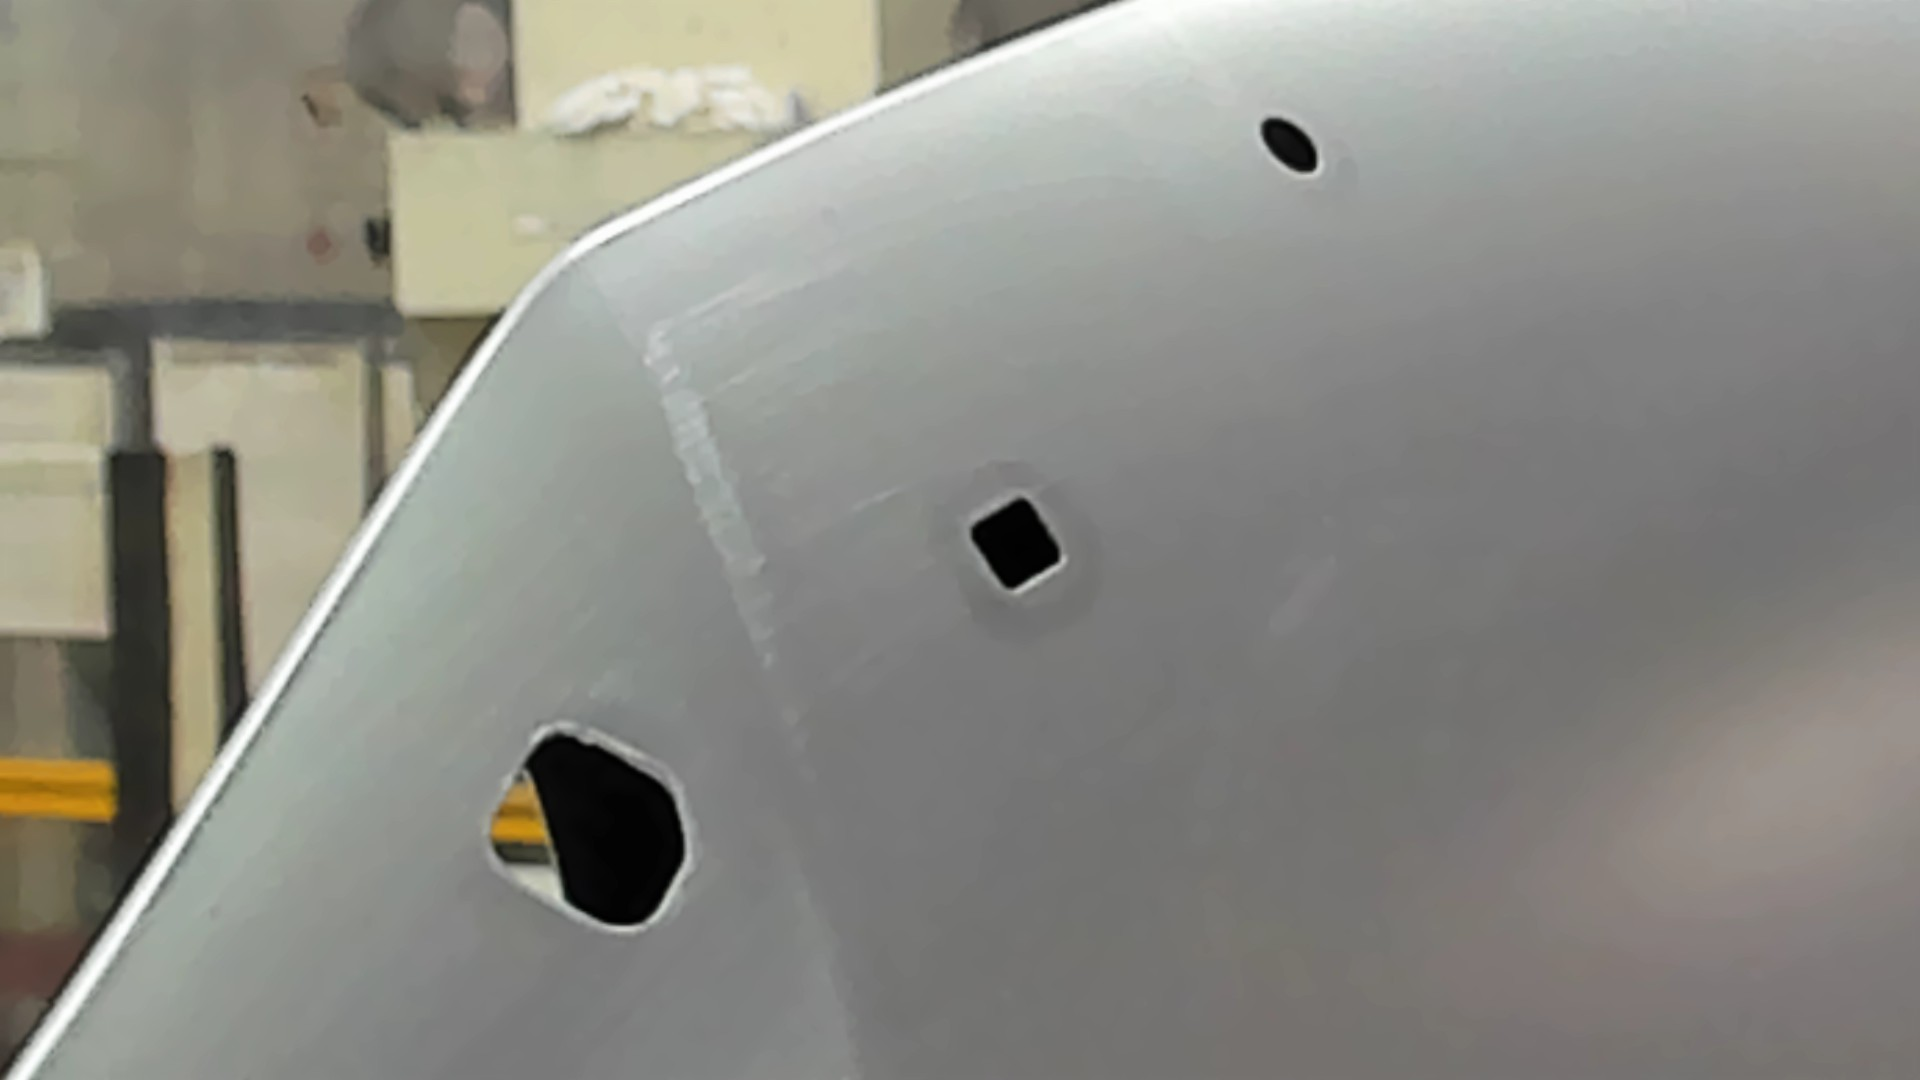capo: (1071, 185, 1920, 1080)
chico: (1255, 113, 1324, 178)
grande: (479, 713, 698, 942)
mediano: (957, 485, 1073, 609)
